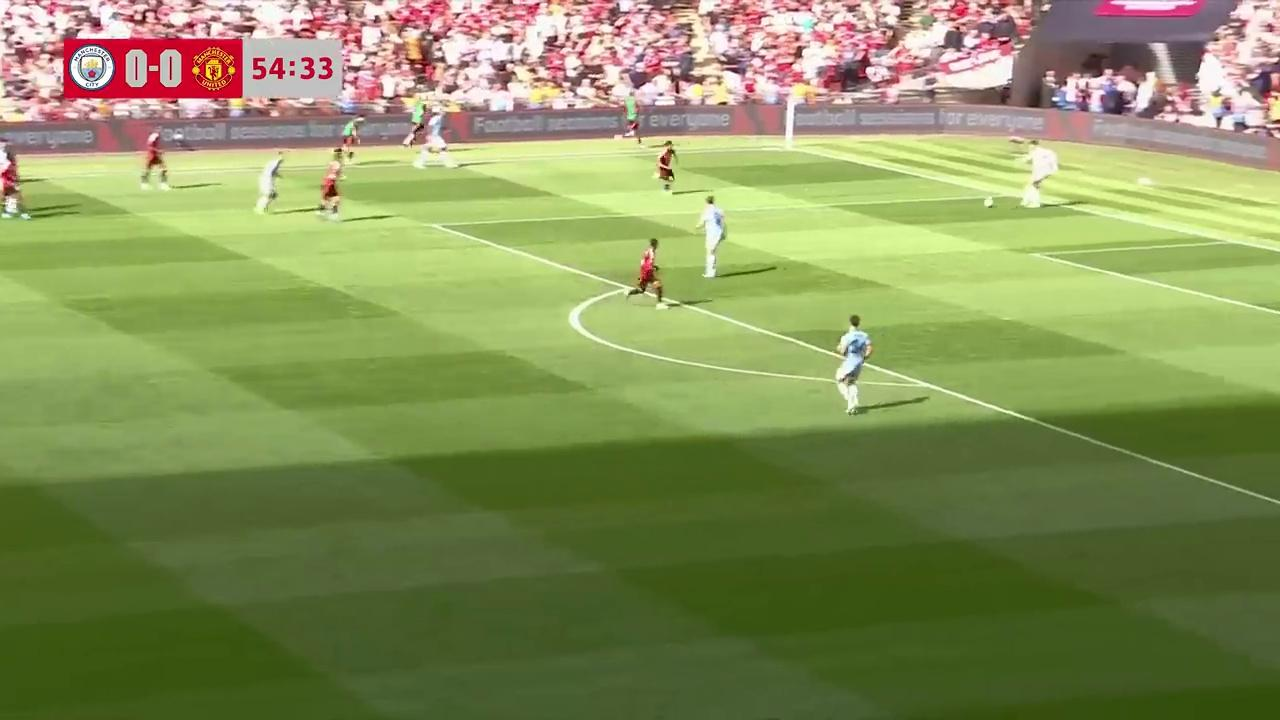ball: (982, 195, 995, 211)
player: (834, 315, 871, 415), (626, 238, 670, 310), (1019, 136, 1059, 209), (696, 196, 726, 279), (412, 108, 451, 169), (139, 127, 170, 189), (0, 153, 27, 219), (255, 155, 282, 213), (318, 159, 343, 219), (654, 140, 675, 193)
